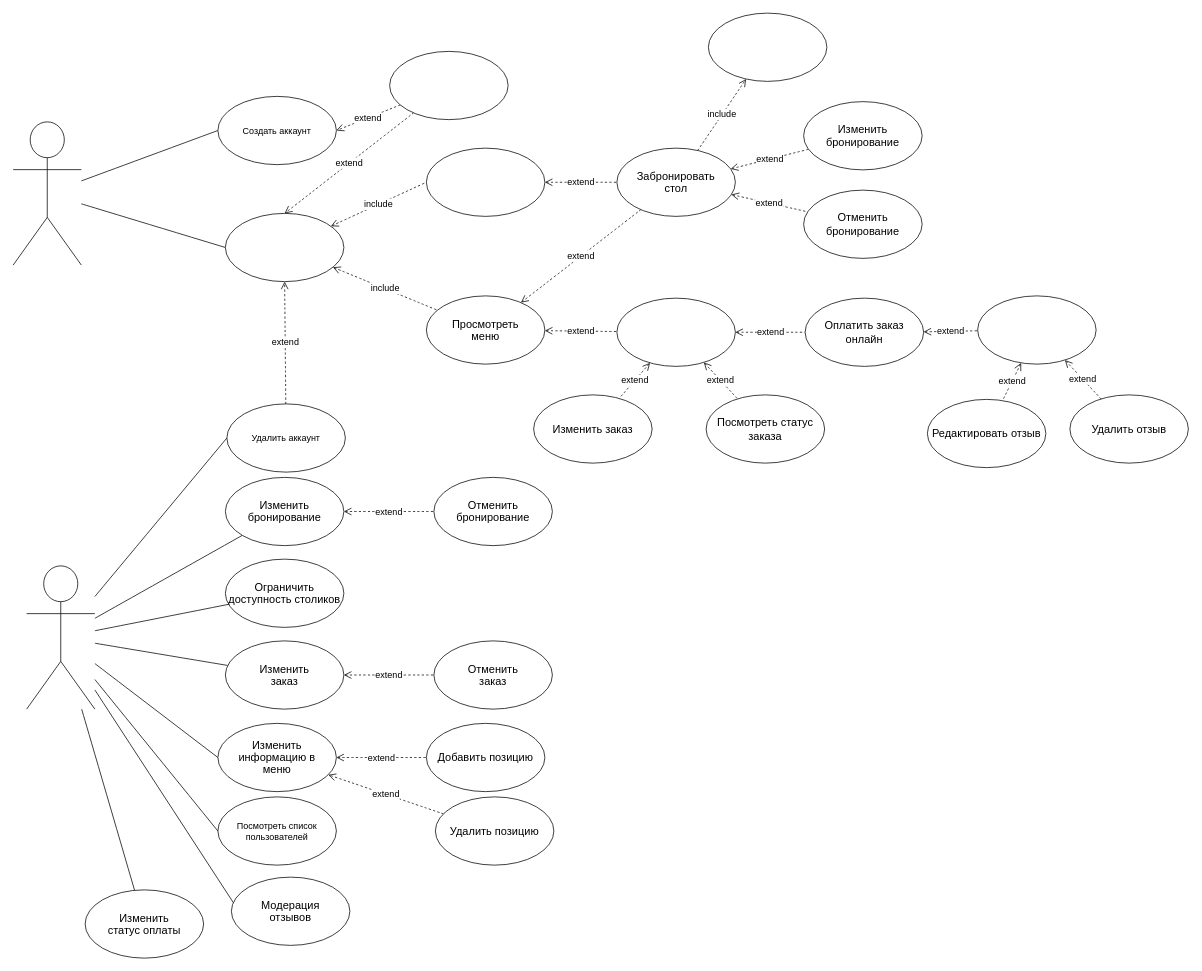
Some shapes in this 1202 by 971 pixel diagram are drawn without their labels. Here are the shapes that lost their labels. From the top down, the centre of each, then its label:
point (767, 46): Подтвердить бронирование
point (448, 85): Изменить данные аккаунта
point (46, 193): User
point (485, 181): Посмотреть слоты доступные для бронирования
point (284, 247): Авторизоваться в системе
point (675, 331): Сделать заказ
point (1036, 329): Оставить отзыв
point (60, 637): Admin
